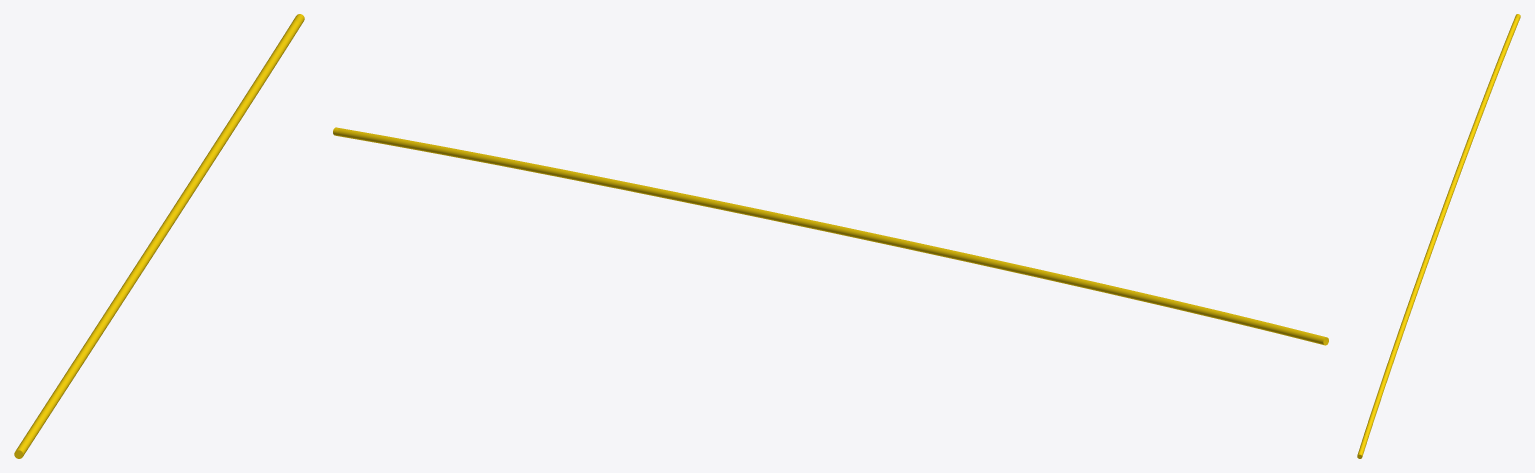
Rendered from Event_421127236_track_24.fbx.
3 renders of one model, left to right at view 1: azimuth 90°, elevation 25°; view 2: azimuth 150°, elevation 25°; view 3: azimuth 270°, elevation 25°, orthographic. The views are drawn at different scales.
Visible parts, largest first — view 1: Model; view 2: Model; view 3: Model.
Part boxes in pixels (x1,y1,x2,y2): Model: [14, 14, 304, 458]; Model: [333, 127, 1328, 345]; Model: [1357, 14, 1520, 458].
Bounding box in the file's own units: 6.17 × 0.8553 × 1.24.
